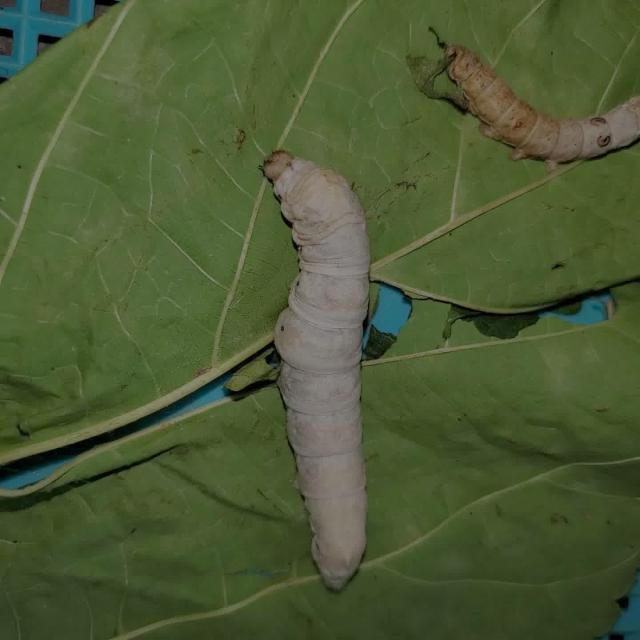Grasserie: (251, 148, 419, 596), (432, 22, 640, 162)
